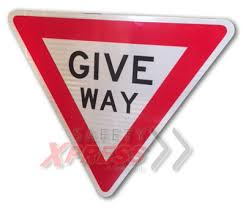giveway: (6, 7, 236, 198)
